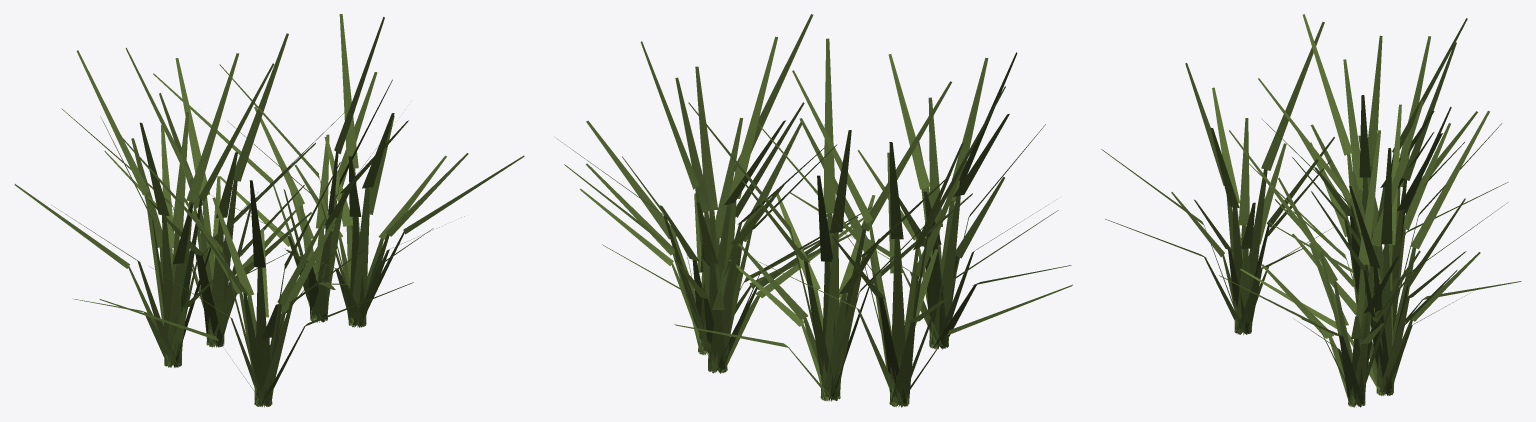
The model's file is strange_sedge.glb.
3 renders of one model, left to right at view 1: azimuth 30°, elevation 25°; view 2: azimuth 150°, elevation 25°; view 3: azimuth 270°, elevation 25°, orthographic. The views are drawn at different scales.
Parts seen in each view (by area): view 1: strange_sedge; view 2: strange_sedge; view 3: strange_sedge.
Part boxes in pixels (<box>): strange_sedge: <box>14,14,524,407</box>; strange_sedge: <box>556,14,1072,407</box>; strange_sedge: <box>1101,14,1521,407</box>.
Bounding box in the file's own units: 1.33 × 0.8094 × 1.1.
